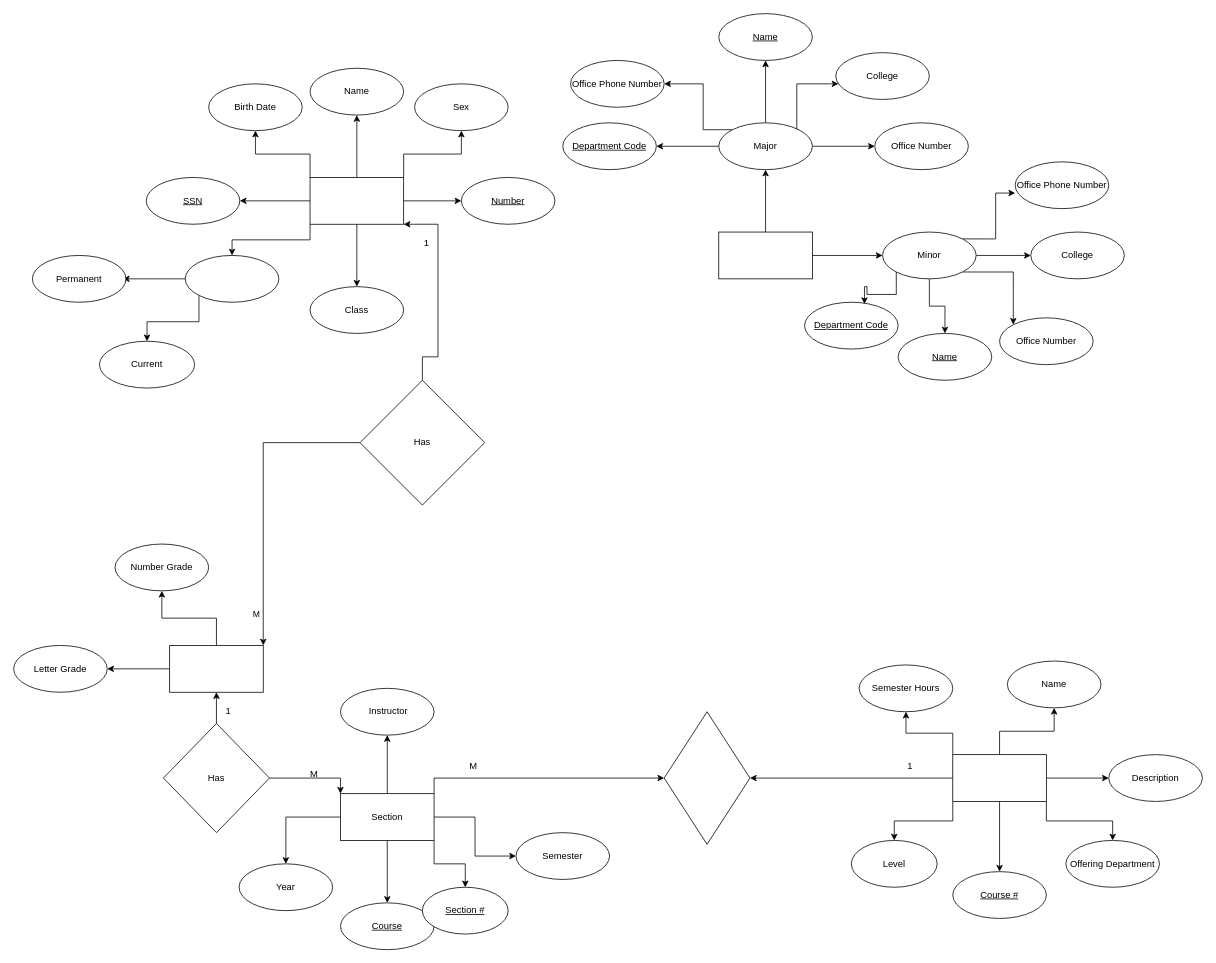
Image size: 1216x963. Some labels were removed from this diagram. Here are the shapes that lost their labels. From the top down, the centre of each, then its label:
At pixel 356 200: "Student Info".
At pixel 765 255: "Department".
At pixel 231 278: "Address, Phone#".
At pixel 216 668: "Grade Report".
At pixel 706 777: "Contains".
At pixel 999 777: "Courses".
